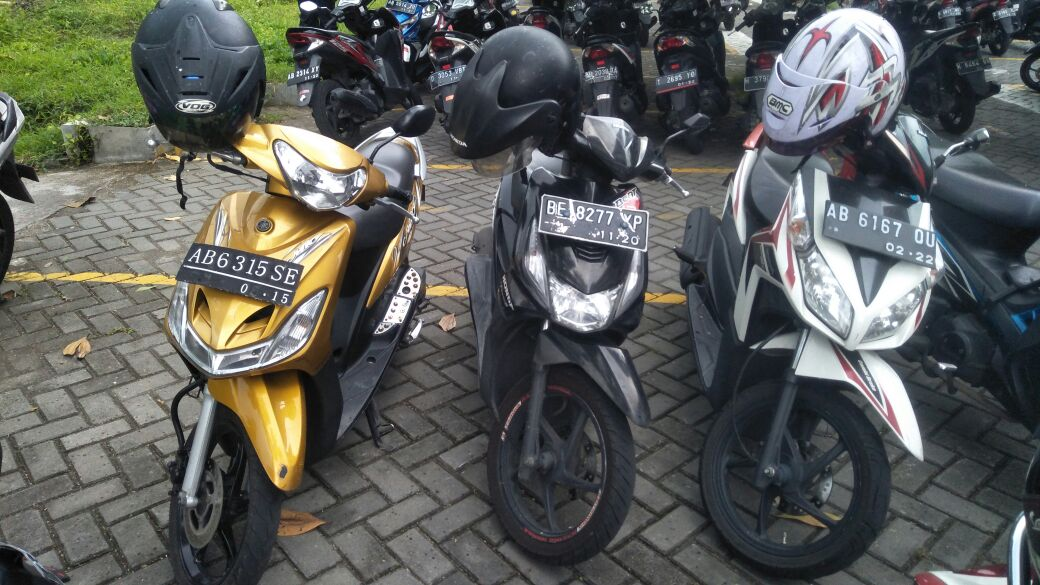plate: (821, 197, 938, 270), (178, 243, 305, 308), (537, 193, 649, 255), (652, 69, 698, 91), (285, 63, 321, 85)
